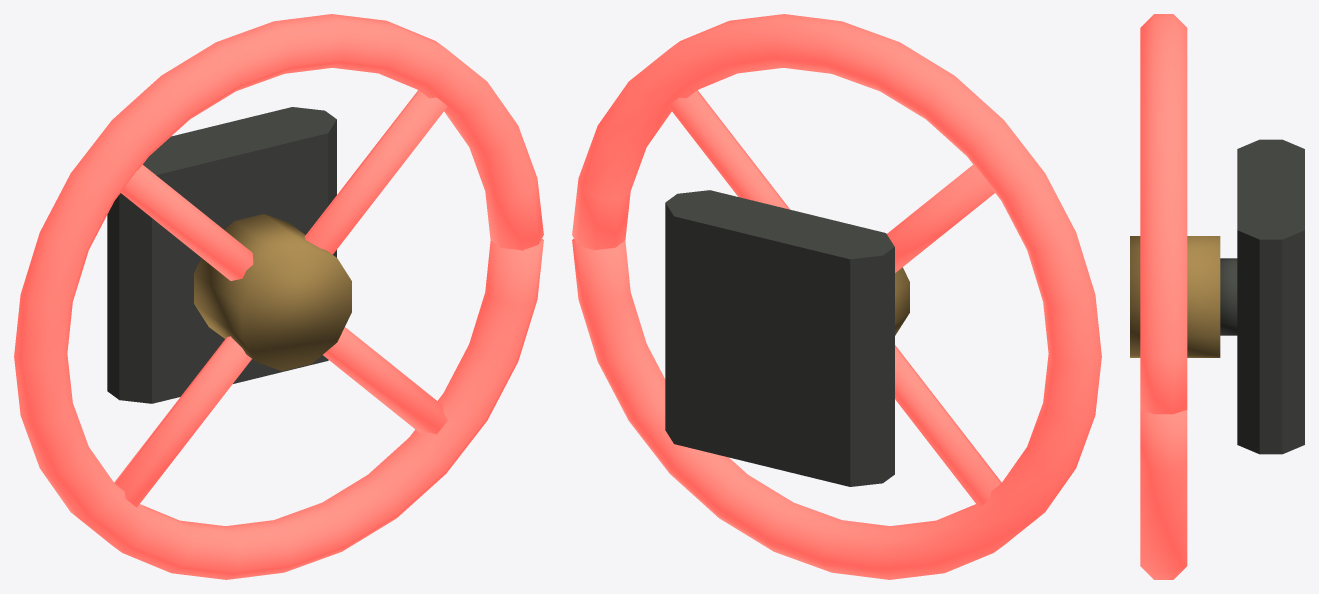
The model's file is b2_valve.glb.
3 renders of one model, left to right at view 1: azimuth 30°, elevation 25°; view 2: azimuth 150°, elevation 25°; view 3: azimuth 270°, elevation 25°, orthographic. The views are drawn at different scales.
Parts seen in each view (by area): view 1: b2_valve; view 2: b2_valve; view 3: b2_valve.
Boxes of the visible parts, bbox=[...] form: b2_valve: bbox=[14, 14, 543, 579]; b2_valve: bbox=[572, 14, 1101, 579]; b2_valve: bbox=[1130, 14, 1304, 579].
Bounding box in the file's own units: 1 × 1 × 0.31.
